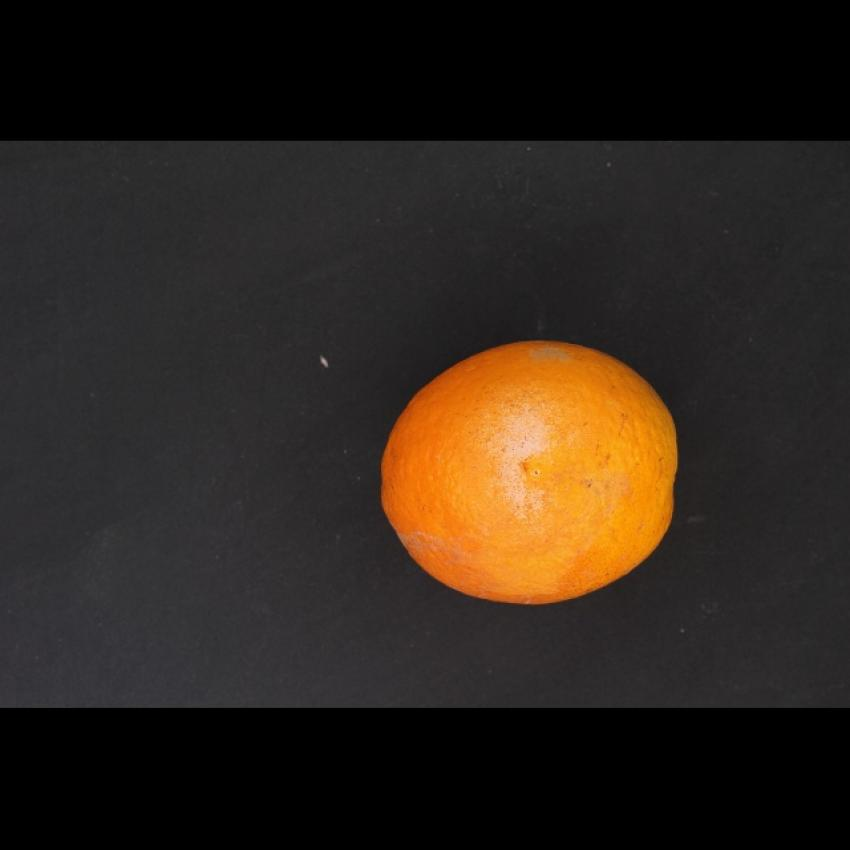Mal estado: (374, 330, 690, 612)
